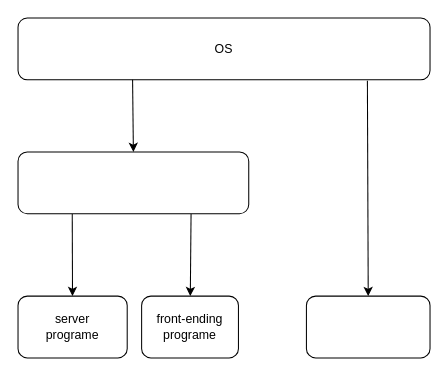
This 448x376 diagram has some shape labels left out. The shapes that lost their labels are listed below. From the top down, each one's centre as x and y in pixels, then its label:
At point 133,182: "screen".
At point 367,326: "Data Base".
